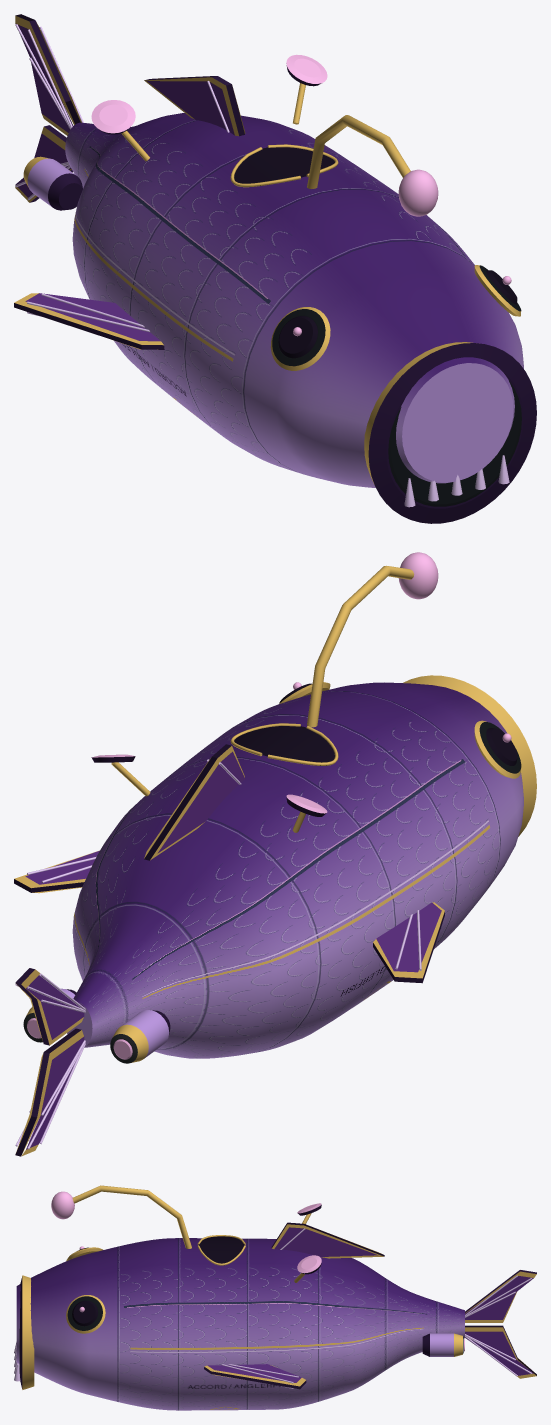
The picture shows the model from 3 angles, top to bottom: view 1: azimuth 30°, elevation 25°; view 2: azimuth 150°, elevation 25°; view 3: azimuth 270°, elevation 25°; orthographic projection. The views are drawn at different scales.
Visible parts, largest first — view 1: anglerfish_hull; view 2: anglerfish_hull; view 3: anglerfish_hull.
Boxes of the visible parts, bbox=[...] form: anglerfish_hull: bbox=[14, 14, 536, 523]; anglerfish_hull: bbox=[14, 552, 536, 1156]; anglerfish_hull: bbox=[14, 1185, 536, 1410].
Size of the model in its own units: 9.08 by 7.72 by 17.
Materials: 1 (1 with a texture image).
